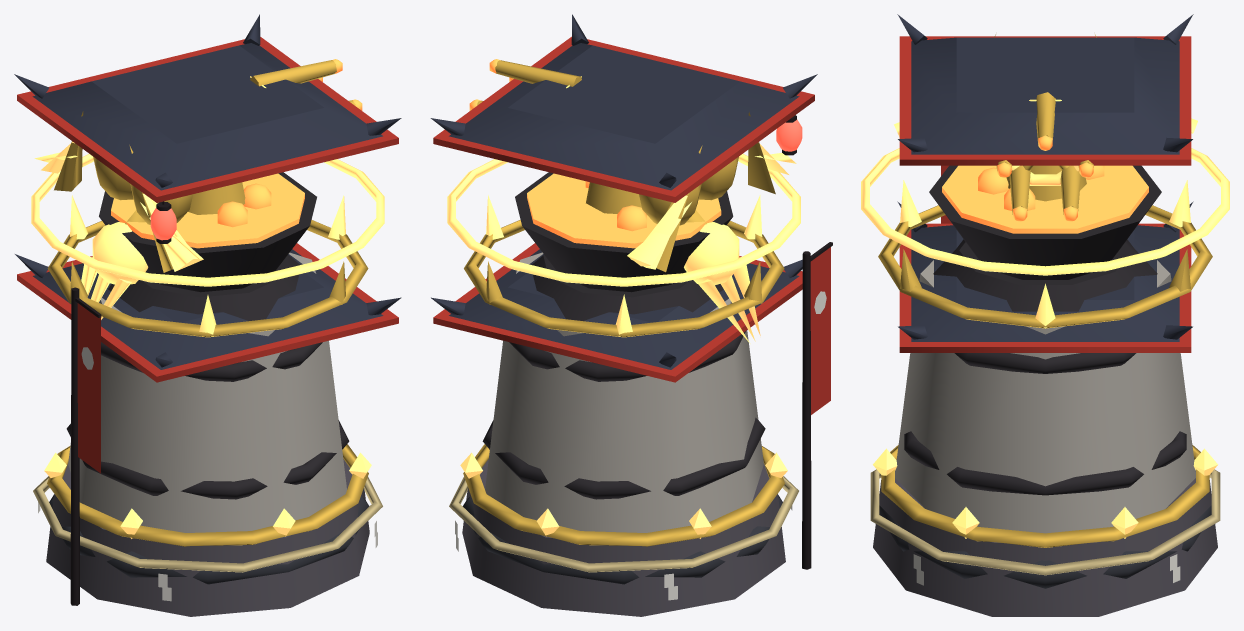
The model's file is tower_flame_firestorm_ultimate.glb.
The picture shows the model from 3 angles, left to right: view 1: azimuth 30°, elevation 25°; view 2: azimuth 150°, elevation 25°; view 3: azimuth 270°, elevation 25°; orthographic projection. The views are drawn at different scales.
Visible parts, largest first — view 1: body, deco_eave_0_roof, base, deco_eave_1_roof, deco_eave_0_rim, brazier_bowl, deco_eave_1_rim, coals, ult_halo, ult_crown_band, ult_ring, brazier_foot (+17 smaller); view 2: body, deco_eave_0_roof, base, deco_eave_1_roof, deco_eave_0_rim, coals, brazier_bowl, deco_eave_1_rim, ult_ring, ult_crown_band, ult_halo, ult_phoenix (+16 smaller); view 3: body, deco_eave_0_roof, base, deco_eave_1_roof, coals, brazier_bowl, deco_eave_0_rim, ult_crown_band, brazier_foot, ult_halo, ult_ring, deco_eave_1_rim (+13 smaller).
Boxes of the visible parts, bbox=[...] form: body: bbox=[68, 252, 346, 532]; deco_eave_0_roof: bbox=[32, 43, 382, 190]; base: bbox=[46, 459, 369, 616]; deco_eave_1_roof: bbox=[33, 249, 383, 369]; deco_eave_0_rim: bbox=[17, 37, 398, 202]; brazier_bowl: bbox=[99, 172, 316, 292]; deco_eave_1_rim: bbox=[17, 243, 398, 382]; coals: bbox=[111, 173, 304, 248]; ult_halo: bbox=[31, 153, 384, 286]; ult_crown_band: bbox=[47, 220, 368, 337]; ult_ring: bbox=[47, 444, 368, 546]; brazier_foot: bbox=[108, 255, 299, 320]; body: bbox=[485, 252, 763, 532]; deco_eave_0_roof: bbox=[449, 43, 799, 190]; base: bbox=[462, 459, 785, 616]; deco_eave_1_roof: bbox=[449, 249, 799, 369]; deco_eave_0_rim: bbox=[433, 36, 814, 202]; coals: bbox=[527, 173, 721, 248]; brazier_bowl: bbox=[515, 172, 733, 292]; deco_eave_1_rim: bbox=[433, 243, 802, 382]; ult_ring: bbox=[463, 444, 784, 546]; ult_crown_band: bbox=[464, 220, 784, 337]; ult_halo: bbox=[447, 154, 800, 286]; ult_phoenix: bbox=[627, 112, 796, 343]; body: bbox=[895, 260, 1195, 533]; deco_eave_0_roof: bbox=[911, 37, 1179, 154]; base: bbox=[873, 471, 1217, 616]; deco_eave_1_roof: bbox=[911, 225, 1179, 341]; coals: bbox=[942, 165, 1148, 233]; brazier_bowl: bbox=[929, 165, 1161, 279]; deco_eave_0_rim: bbox=[899, 36, 1191, 165]; ult_crown_band: bbox=[878, 205, 1212, 328]; brazier_foot: bbox=[933, 239, 1157, 311]; ult_halo: bbox=[861, 148, 1229, 275]; ult_ring: bbox=[881, 445, 1209, 547]; deco_eave_1_rim: bbox=[899, 223, 1191, 352].
Size of the model in its own units: 0.4427 by 0.6127 by 0.4274.
